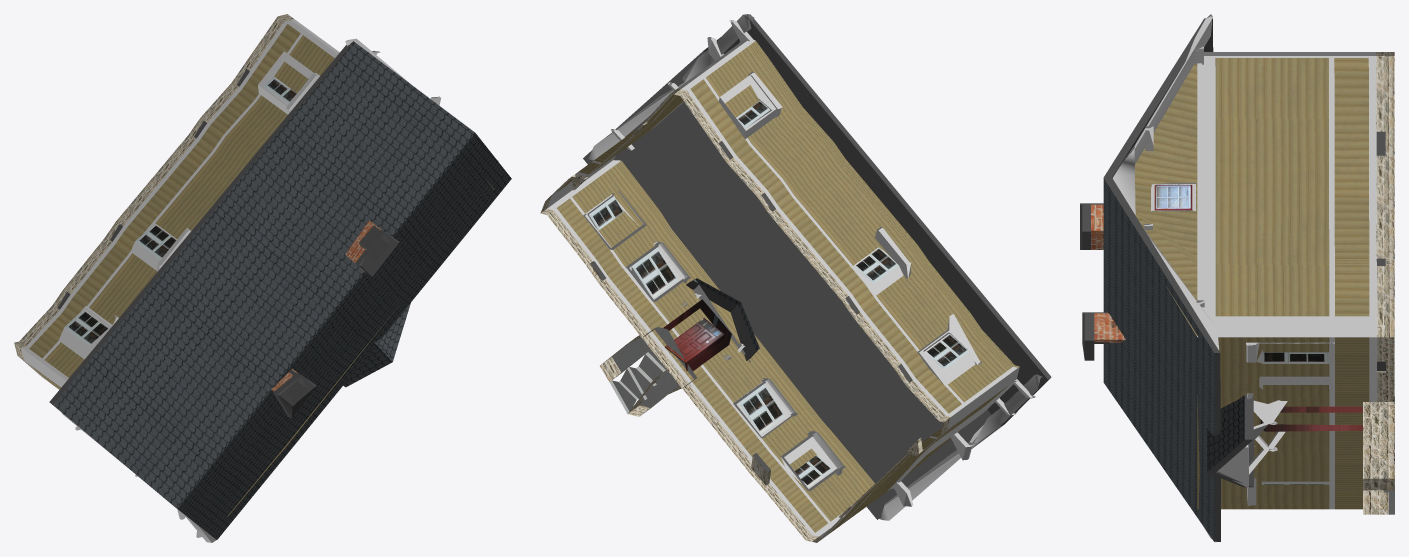
File: Suurtyki_8-origo.obj
3 views of the same model, side by side, from view 1: azimuth 30°, elevation 25°; view 2: azimuth 150°, elevation 25°; view 3: azimuth 270°, elevation 25° (orthographic). The views are drawn at different scales.
Parts seen in each view (by area): view 1: object; view 2: object; view 3: object.
Boxes of the visible parts, <box> form: object: <box>14,14,511,542</box>; object: <box>540,14,1051,542</box>; object: <box>1080,14,1394,542</box>.
Bounding box in the file's own units: 17.56 × 17 × 7.98.
